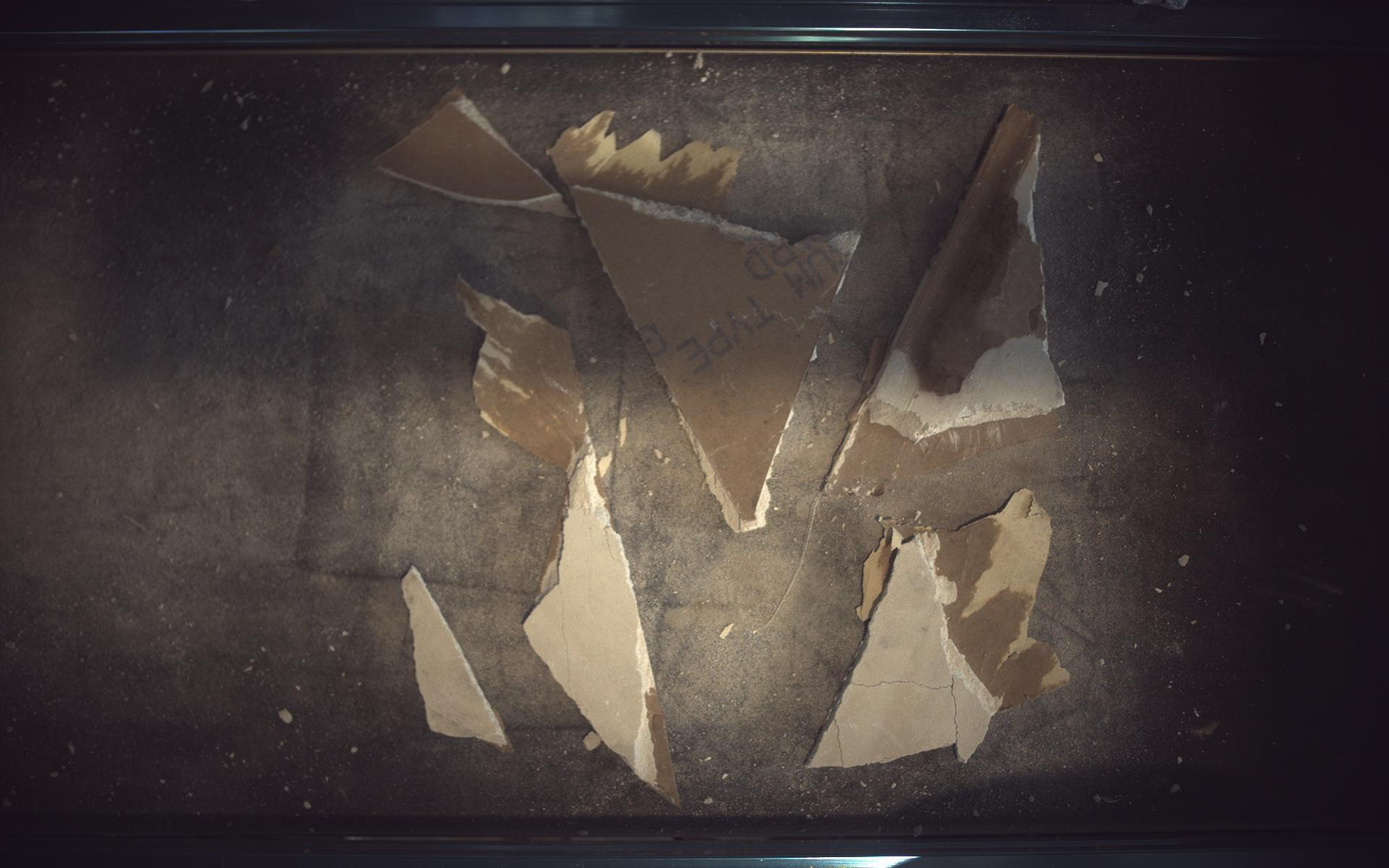gypsum_board: (550, 110, 861, 532), (458, 279, 679, 806), (825, 104, 1067, 496), (810, 490, 1071, 769), (374, 88, 575, 216), (402, 568, 512, 752)
